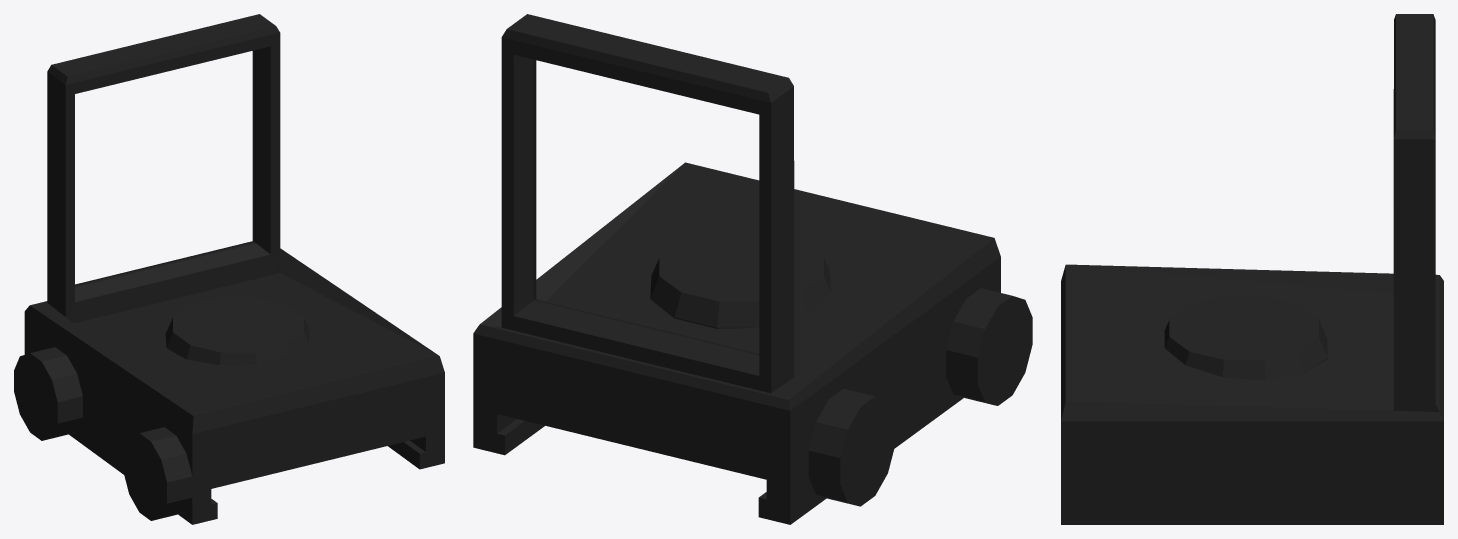
The model's file is holo.gltf.
3 views of the same model, side by side, from view 1: azimuth 30°, elevation 25°; view 2: azimuth 150°, elevation 25°; view 3: azimuth 270°, elevation 25° (orthographic). The views are drawn at different scales.
Visible parts, largest first — view 1: mesh, cylinder (×3); view 2: mesh, cylinder (×3); view 3: mesh, cylinder.
Part boxes in pixels (x1=…): mesh: x1=24, y1=14, x2=444, y2=524; cylinder (×3): x1=14, y1=297, x2=309, y2=520; mesh: x1=473, y1=14, x2=1000, y2=524; cylinder (×3): x1=650, y1=232, x2=1032, y2=506; mesh: x1=1061, y1=14, x2=1443, y2=524; cylinder: x1=1164, y1=296, x2=1327, y2=380.
Bounding box in the file's own units: 0.275 × 0.3187 × 0.2875.
1 material, 1 textured.
